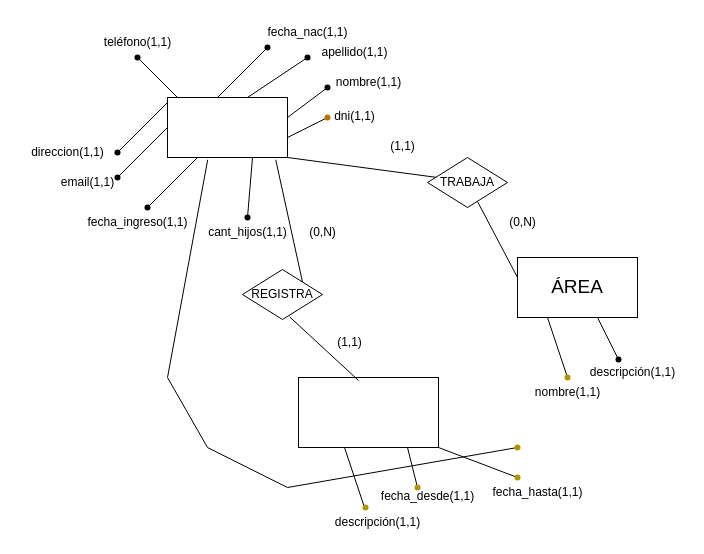
This 704x554 diagram has some shape labels left out. The shapes that lost their labels are listed below. From the top down, each one's centre as x and y in pixels, then its label:
the point at 227,127: EMPLEADO
the point at 368,412: INFORMACIÓN
